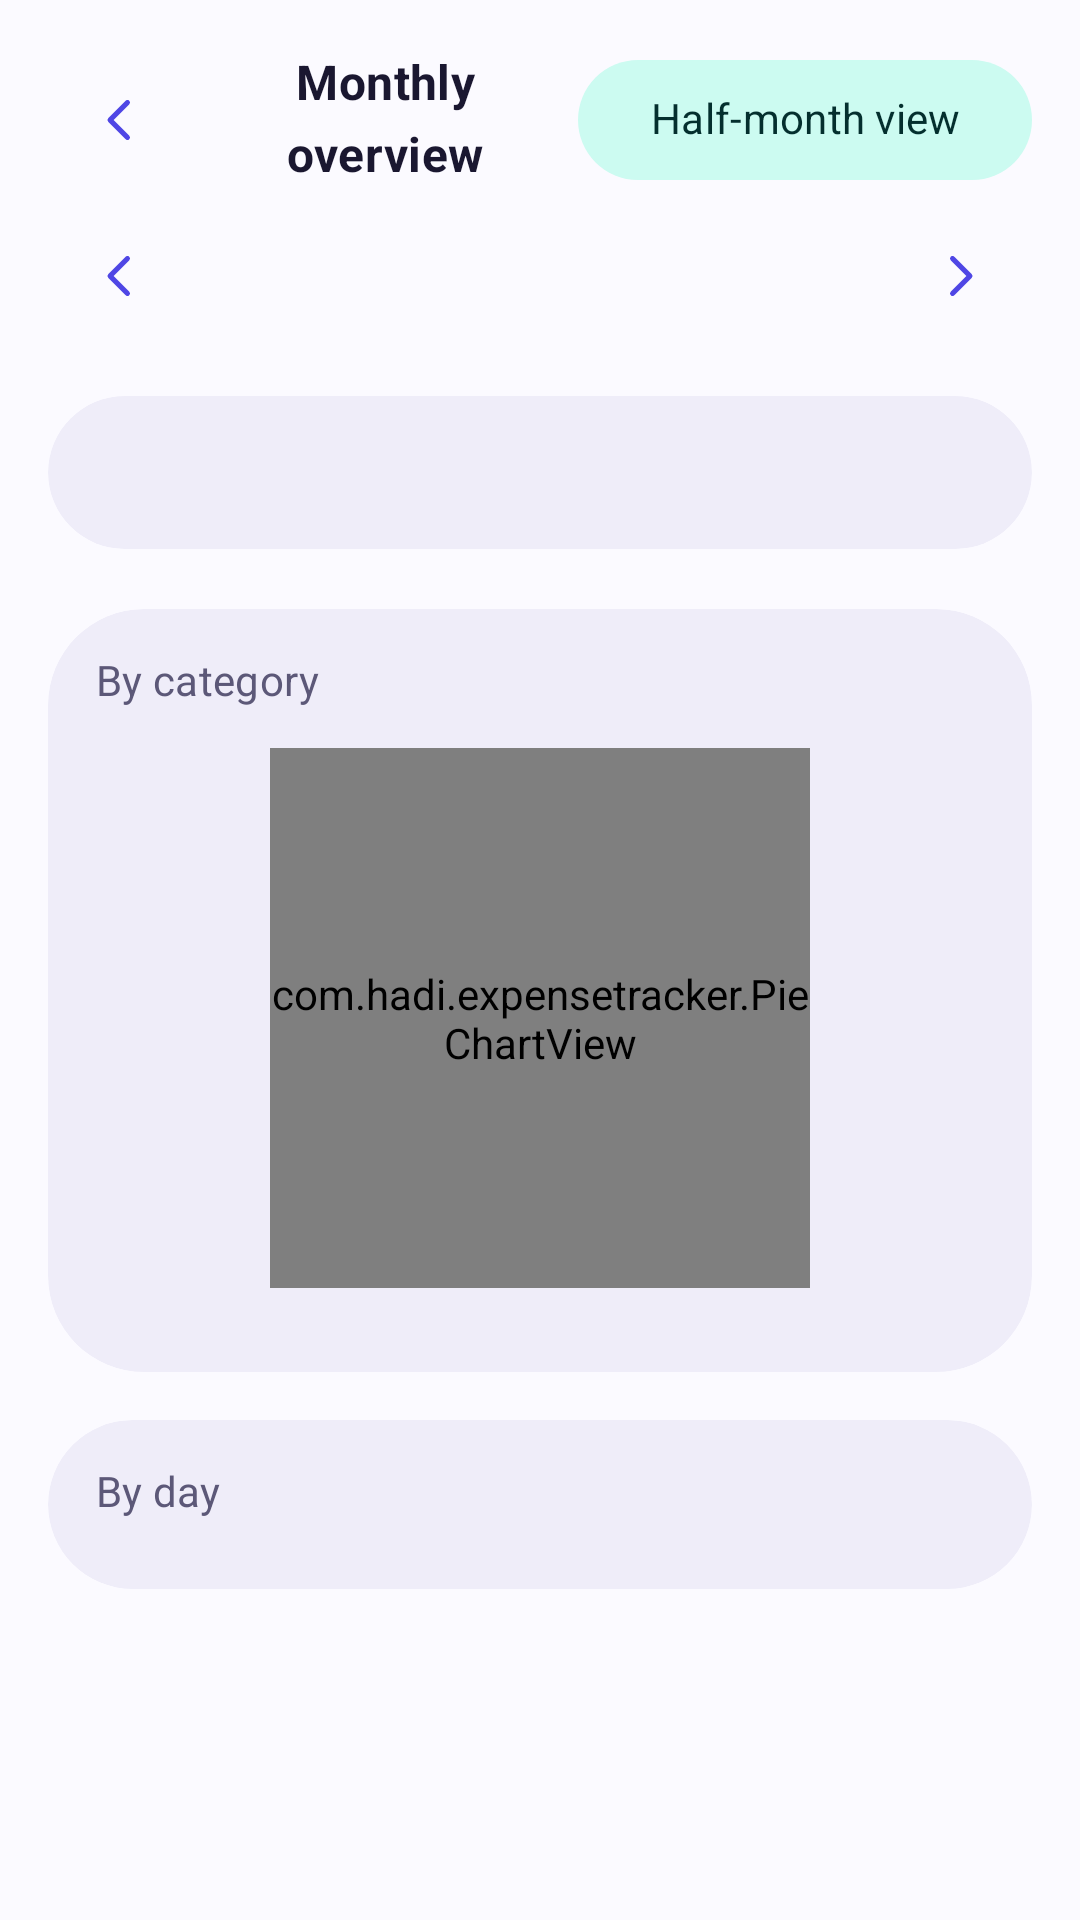

Icon click points for this 1080px x 1920px phone screenshot, format (x=x, y=y):
Back: (x=118, y=120)
Next month: (x=961, y=276)
Previous month: (x=118, y=276)
